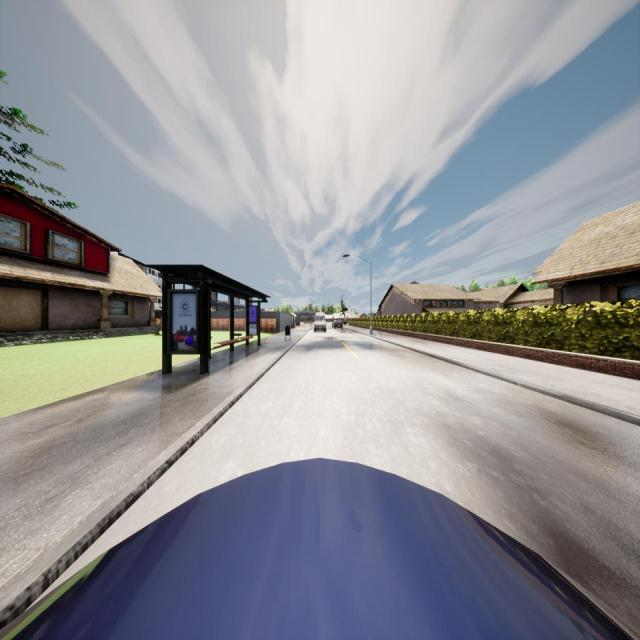Vehicle: (0, 457, 640, 640), (313, 312, 327, 333), (331, 320, 343, 329)
